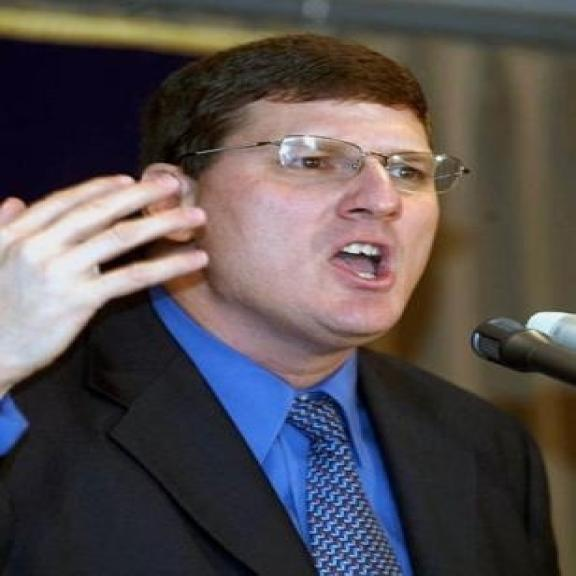face: (130, 51, 448, 352)
